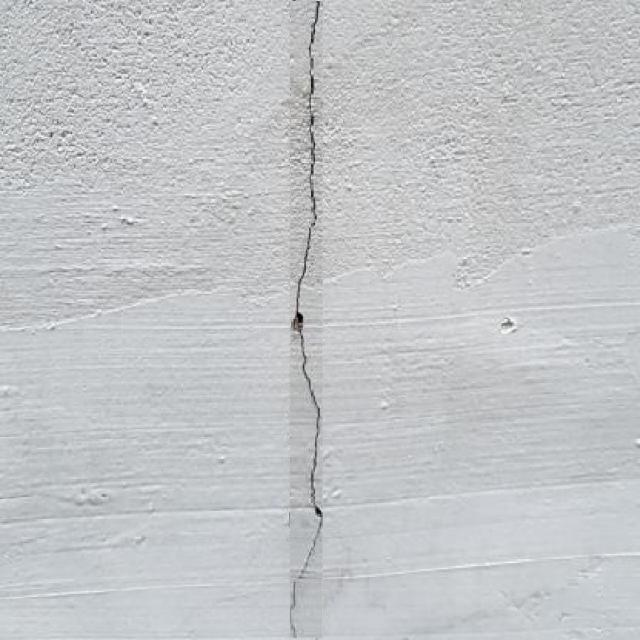Crack: (1, 487, 630, 632), (11, 485, 630, 531), (287, 0, 325, 639), (4, 310, 628, 348), (384, 21, 422, 638), (0, 270, 327, 338), (418, 217, 636, 317), (2, 241, 210, 288), (1, 569, 263, 605), (0, 496, 196, 532), (378, 237, 492, 292), (301, 18, 319, 277), (288, 2, 322, 126)
